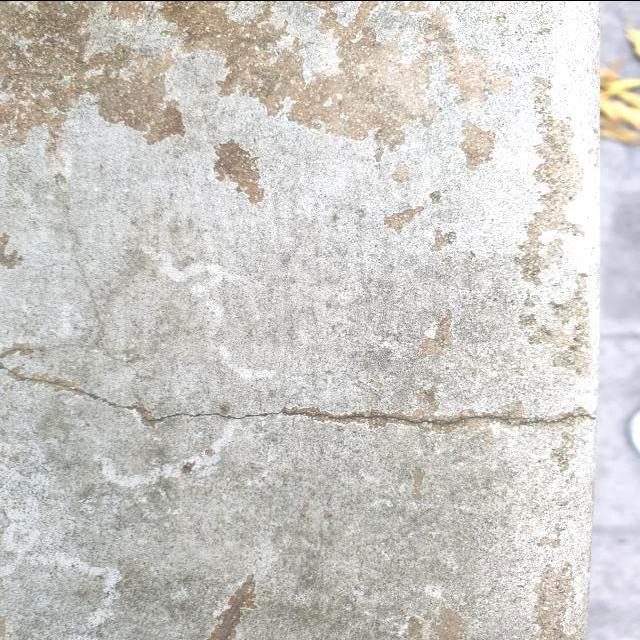SurfaceCrack: (0, 324, 595, 473)
